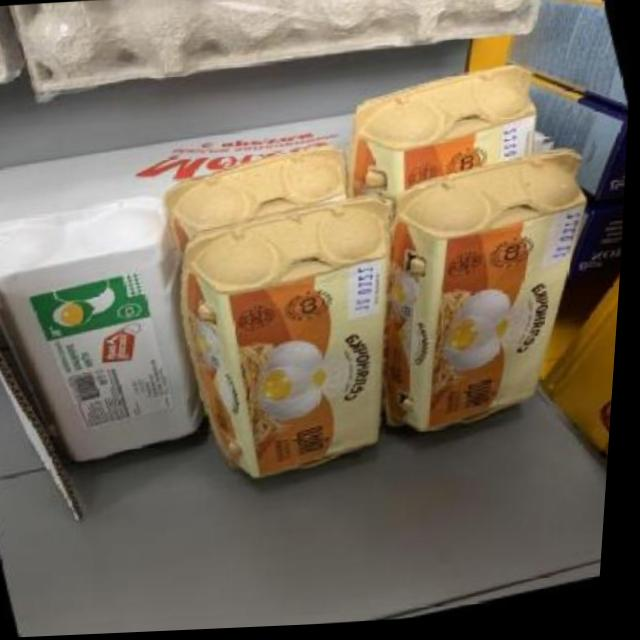Egg: (151, 193, 453, 494), (345, 150, 631, 448), (0, 186, 235, 480), (337, 69, 557, 197), (158, 143, 358, 241)
